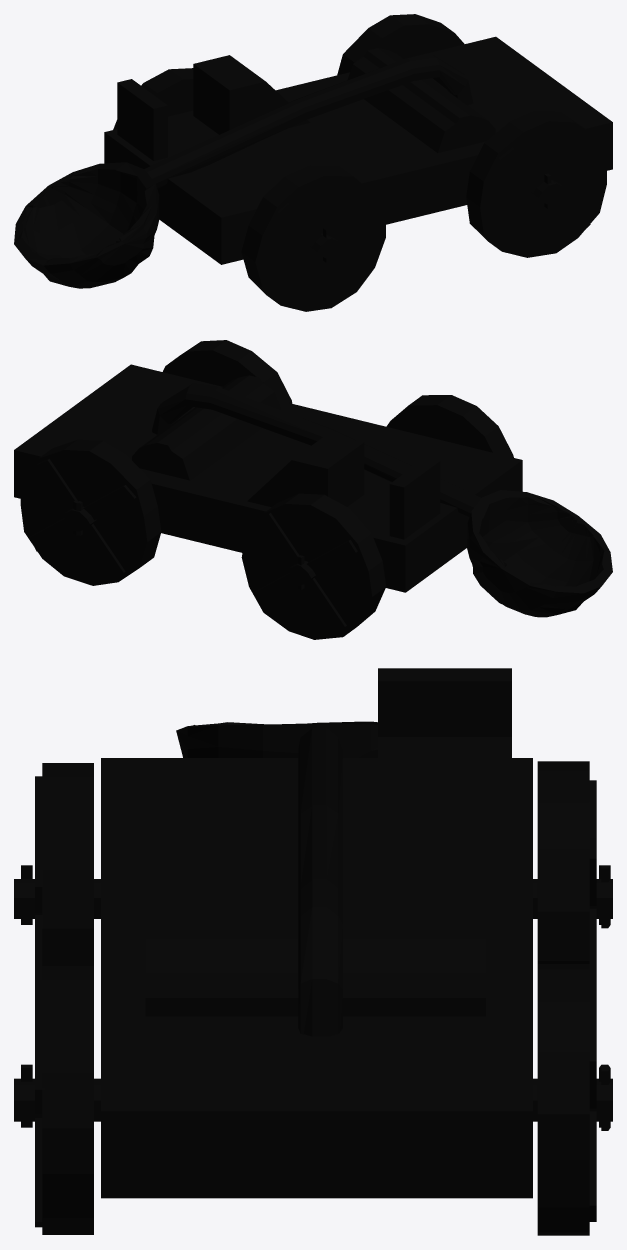
File: Cat2.glb
3 views of the same model, one above another, from view 1: azimuth 30°, elevation 25°; view 2: azimuth 150°, elevation 25°; view 3: azimuth 270°, elevation 25° (orthographic). The views are drawn at different scales.
Visible parts, largest first — view 1: Cat2; view 2: Cat2; view 3: Cat2.
Part boxes in pixels (bbox=[...]): Cat2: bbox=[14, 14, 612, 311]; Cat2: bbox=[14, 340, 612, 639]; Cat2: bbox=[14, 668, 612, 1235].
Bounding box in the file's own units: 251 × 70.87 × 133.
Materials: 1 (1 with a texture image).
